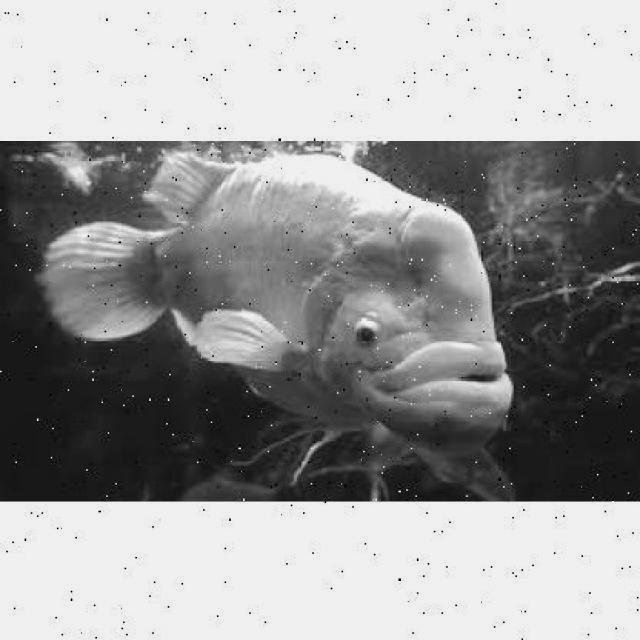gurame: (58, 148, 514, 436)
